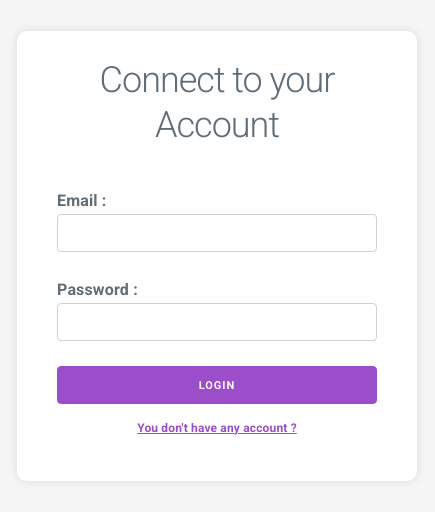
Scenario: full app rendering/navigating
Expected: the heading "Connect to your Account" is shown, [100, 59, 334, 146]
navigate to "register" page by clicking link
Step 1. Click the link "You don't have any account ?" → (217, 428), box [137, 420, 297, 434]
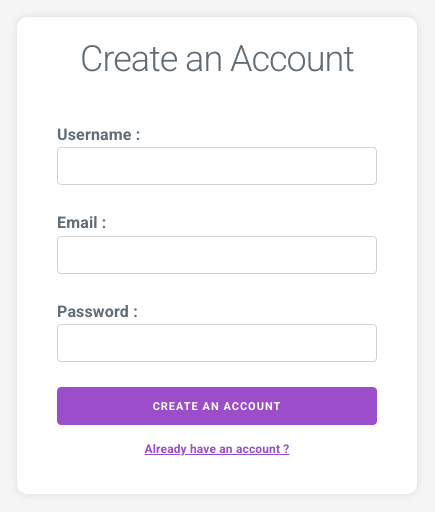
Expected: the button is shown, [57, 387, 377, 425]
Expected: the heading "Create an Account" is shown, [57, 36, 377, 82]
